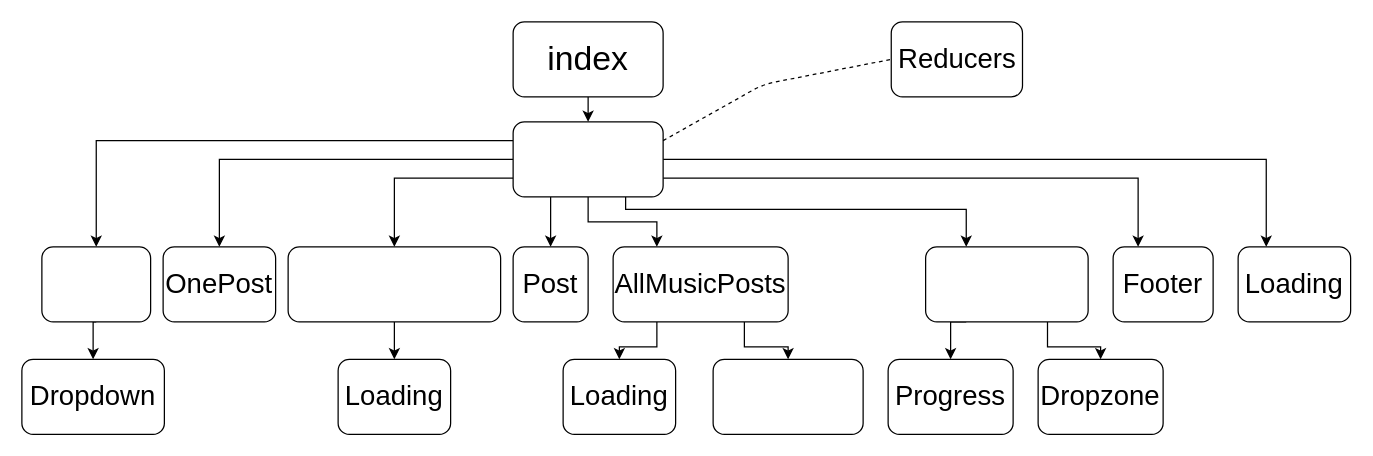
This 1373x456 diagram has some shape labels left out. Here are the shapes that lost their labels. From the top down, the centre of each, then its label:
pixel 587 159: A pp
pixel 96 284: Header
pixel 394 284: ImageContainer
pixel 1006 284: UploadForm
pixel 787 396: MusicPost
